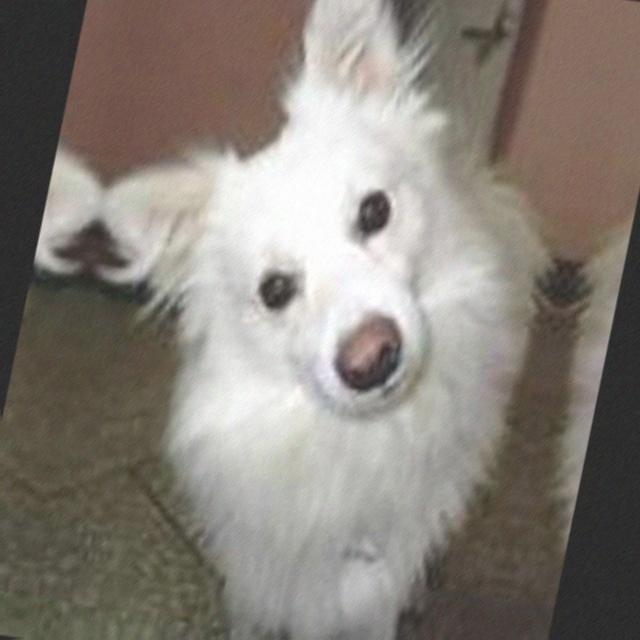dog: (20, 0, 606, 640), (0, 0, 158, 608), (498, 3, 640, 640)
